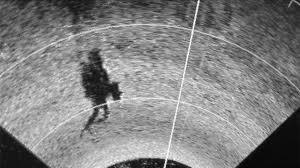man: (77, 46, 125, 141)
